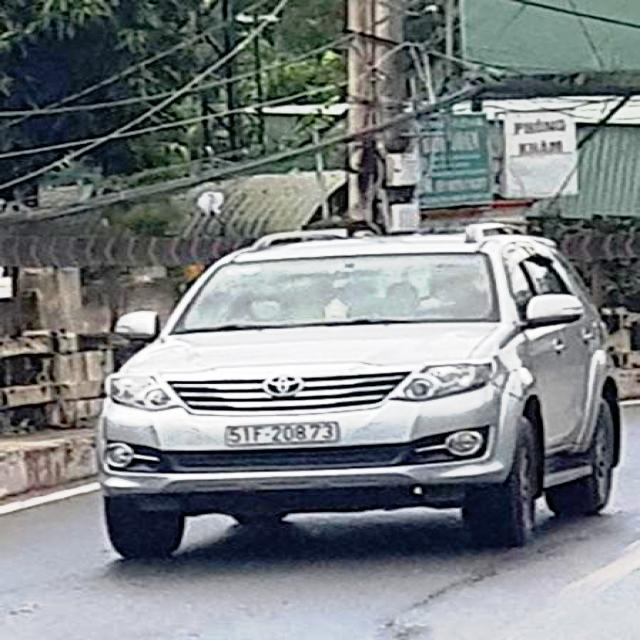license_plate: (225, 421, 340, 448)
